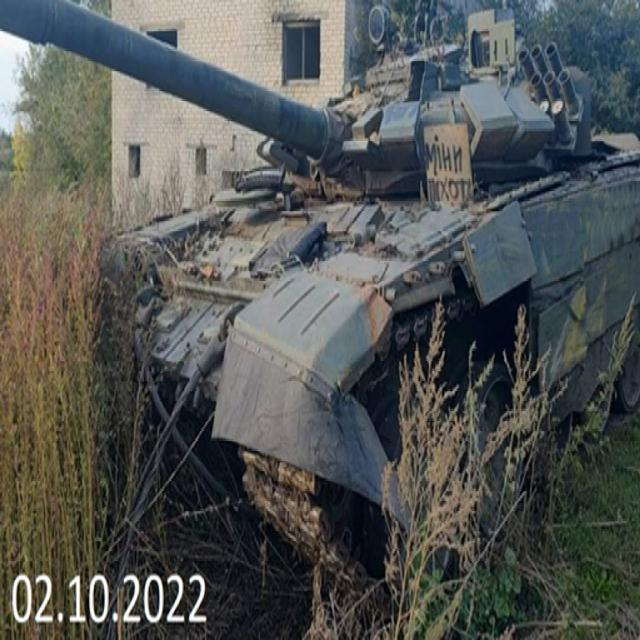TANK: (0, 0, 639, 598)
